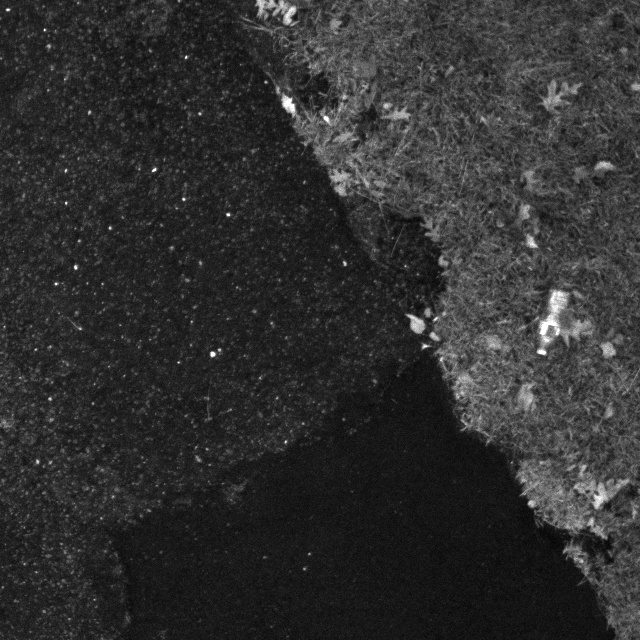bottle: (526, 287, 574, 365)
